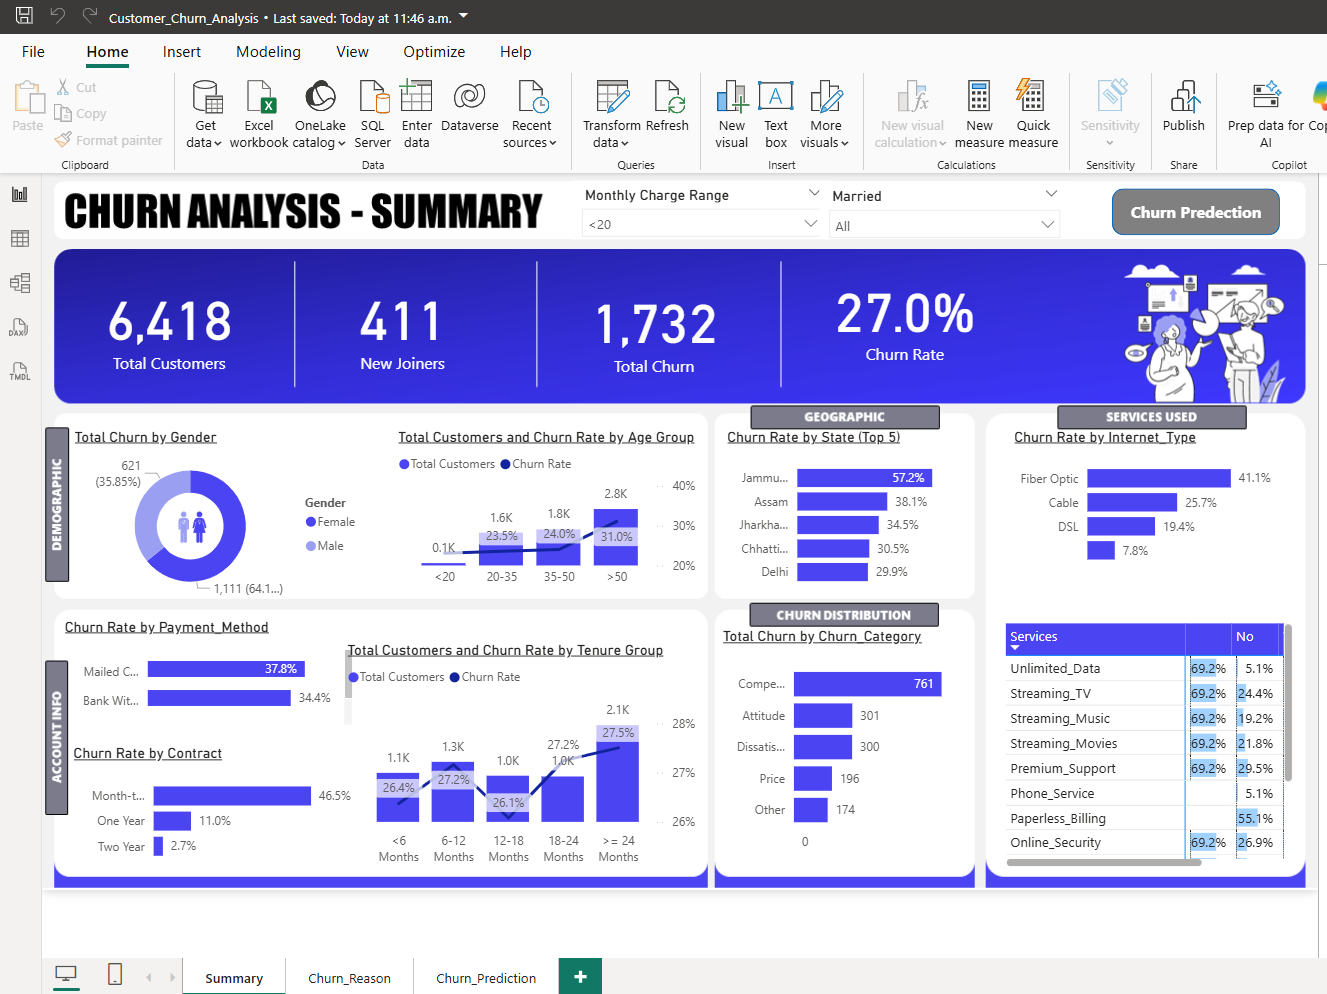

The page's visual inventory and layout, read from the dashboard file:
{"tool":"powerbi","page":{"name":"Summary","canvas":[1280,720],"ordinal":0},"visuals":[{"type":"card","fields":{"Values":["tbl_Measures.Total Customers"]},"box":[27.3,99.5,199.1,104.3],"z":0},{"type":"card","fields":{"Values":["tbl_Measures.New Joiners"]},"box":[290,95.5,142.1,113],"z":1000},{"type":"card","fields":{"Values":["tbl_Measures.Total Churn"]},"box":[533.3,102.5,161.9,106],"z":2000},{"type":"card","fields":{"Values":["tbl_Measures.Churn Rate"]},"box":[761.6,58.2,208.4,168.9],"z":3000},{"type":"donutChart","fields":{"Category":["public prod_churn.Gender"],"Y":["tbl_Measures.Total Churn"]},"box":[27.3,256,302.2,177.8],"z":4000},{"type":"lineStackedColumnComboChart","fields":{"Category":["Maping_AgeGrp.Age Group"],"Y":["tbl_Measures.Total Customers"],"Y2":["tbl_Measures.Churn Rate"]},"box":[351.9,256,308.1,168.3],"z":5000},{"type":"clusteredBarChart","fields":{"Category":["public prod_churn.Payment_Method"],"Y":["tbl_Measures.Churn Rate"]},"box":[17.5,446,298.1,111.8],"z":6000},{"type":"clusteredBarChart","fields":{"Category":["public prod_churn.Contract"],"Y":["tbl_Measures.Churn Rate"]},"box":[26.8,574.1,288.8,126.9],"z":7000},{"type":"lineStackedColumnComboChart","fields":{"Category":["MApping_TenureGrp.Tenure Group"],"Y":["tbl_Measures.Total Customers"],"Y2":["tbl_Measures.Churn Rate"]},"box":[301.6,469.3,358.7,231.7],"z":8000},{"type":"clusteredBarChart","title":"Churn Rate by State (Top 5)","fields":{"Category":["public prod_churn.State"],"Y":["tbl_Measures.Churn Rate"]},"box":[682.6,256,248.9,168.3],"z":9000},{"type":"clusteredBarChart","fields":{"Y":["tbl_Measures.Total Churn"],"Category":["public prod_churn.Churn_Category"]},"box":[677.7,456.5,253.9,244.5],"z":10000},{"type":"pivotTable","fields":{"Rows":["prod_Services.Services"],"Columns":["prod_Services.Status"],"Values":["Sum(prod_Services.Churn Status)"]},"box":[961.9,446,298.1,255],"z":11000},{"type":"clusteredBarChart","fields":{"Y":["tbl_Measures.Churn Rate"],"Category":["public prod_churn.Internet_Type"]},"box":[970.5,256,271.4,146.9],"z":12000},{"type":"image","box":[104.8,329.6,90.8,51.2],"z":13000},{"type":"slicer","fields":{"Values":["prod_Services.Monthly Charge Status"]},"box":[532.1,8.2,262.5,58.6],"z":14000},{"type":"slicer","fields":{"Values":["prod_Services.Married"]},"box":[780.5,9.4,252,57.4],"z":15000},{"type":"shape","title":"summary","box":[1073.5,15.2,168.8,46.9],"z":16000}]}

Visuals, with their boxes on the page's 1280x720 design canvas (x1, y1, x2, y2). These are canvas units, not pixel positions in the 1327x994 screenshot, which may show the page scaled, cropped or inside an application window:
card - tbl_Measures.Total Customers: <region>27, 100, 226, 204</region>
card - tbl_Measures.New Joiners: <region>290, 96, 432, 208</region>
card - tbl_Measures.Total Churn: <region>533, 102, 695, 208</region>
card - tbl_Measures.Churn Rate: <region>762, 58, 970, 227</region>
donutChart - public prod_churn.Gender x tbl_Measures.Total Churn: <region>27, 256, 330, 434</region>
lineStackedColumnComboChart - Maping_AgeGrp.Age Group x tbl_Measures.Total Customers: <region>352, 256, 660, 424</region>
clusteredBarChart - public prod_churn.Payment_Method x tbl_Measures.Churn Rate: <region>18, 446, 316, 558</region>
clusteredBarChart - public prod_churn.Contract x tbl_Measures.Churn Rate: <region>27, 574, 316, 701</region>
lineStackedColumnComboChart - MApping_TenureGrp.Tenure Group x tbl_Measures.Total Customers: <region>302, 469, 660, 701</region>
"Churn Rate by State (Top 5)" clusteredBarChart: <region>683, 256, 932, 424</region>
clusteredBarChart - tbl_Measures.Total Churn x public prod_churn.Churn_Category: <region>678, 456, 932, 701</region>
pivotTable - prod_Services.Services x prod_Services.Status: <region>962, 446, 1260, 701</region>
clusteredBarChart - tbl_Measures.Churn Rate x public prod_churn.Internet_Type: <region>970, 256, 1242, 403</region>
image: <region>105, 330, 196, 381</region>
slicer - prod_Services.Monthly Charge Status: <region>532, 8, 795, 67</region>
slicer - prod_Services.Married: <region>780, 9, 1032, 67</region>
"summary" shape: <region>1074, 15, 1242, 62</region>
